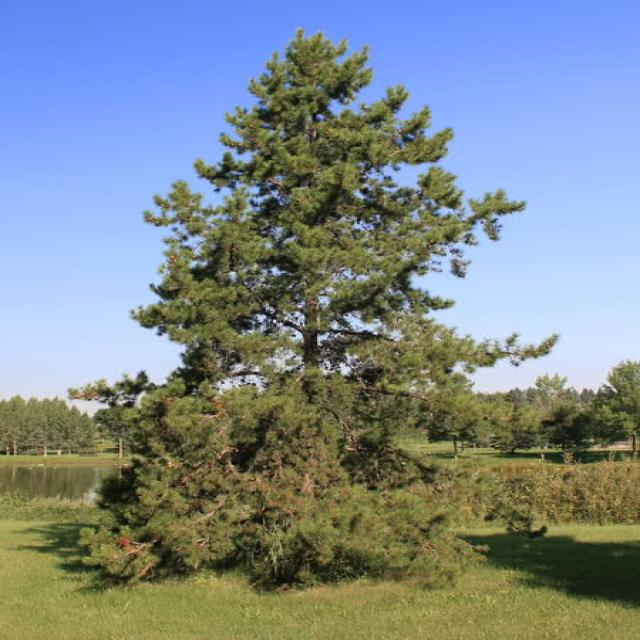Pinus contorta var: (72, 23, 559, 574)
